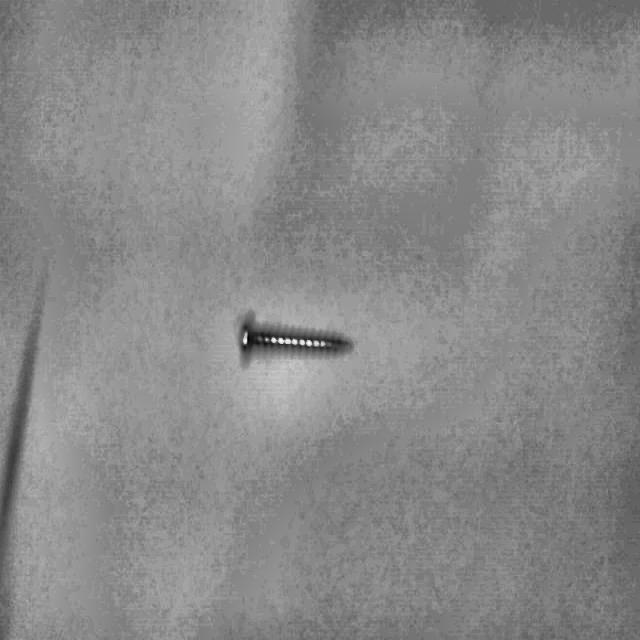Sheet metal screw: (239, 321, 351, 355)
